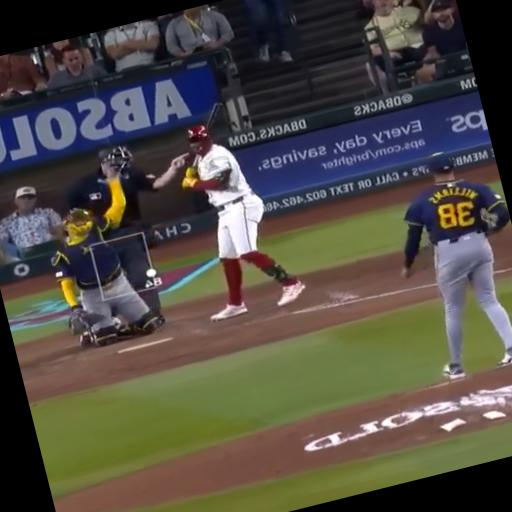bat: (206, 103, 223, 130), (206, 103, 223, 129)
